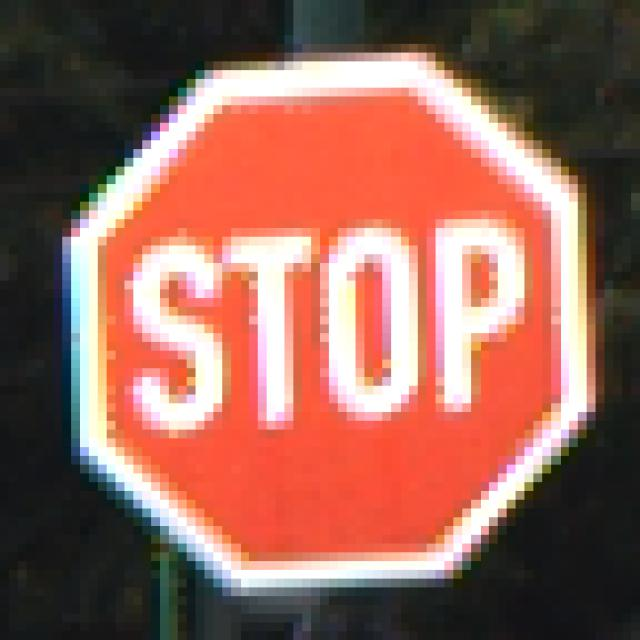STOP: (63, 54, 588, 589)
